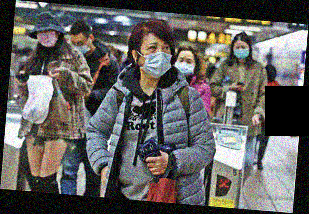with_mask: (140, 39, 175, 80), (35, 27, 59, 48), (173, 56, 196, 76), (68, 39, 91, 56), (232, 42, 252, 61)
